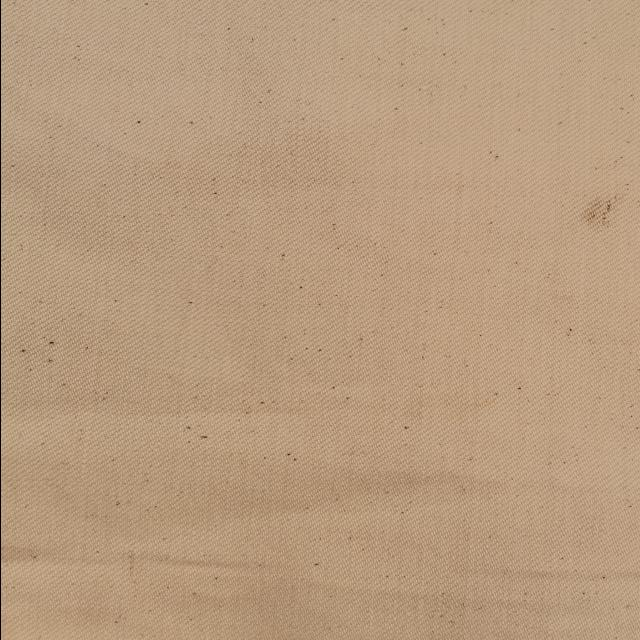taaaches: (571, 184, 640, 232)
